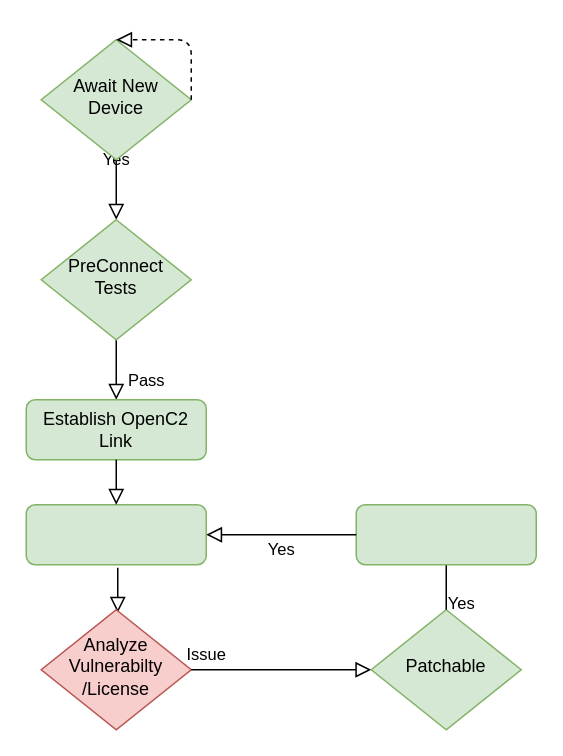
This 563x756 diagram has some shape labels left out. The shapes that lost their labels are listed below. From the top down, each one's box as (x1, y1, x2, y2) in pixels, then its label:
(25, 503, 206, 565): Obtain current SBOM
(355, 503, 536, 565): Patch Device
